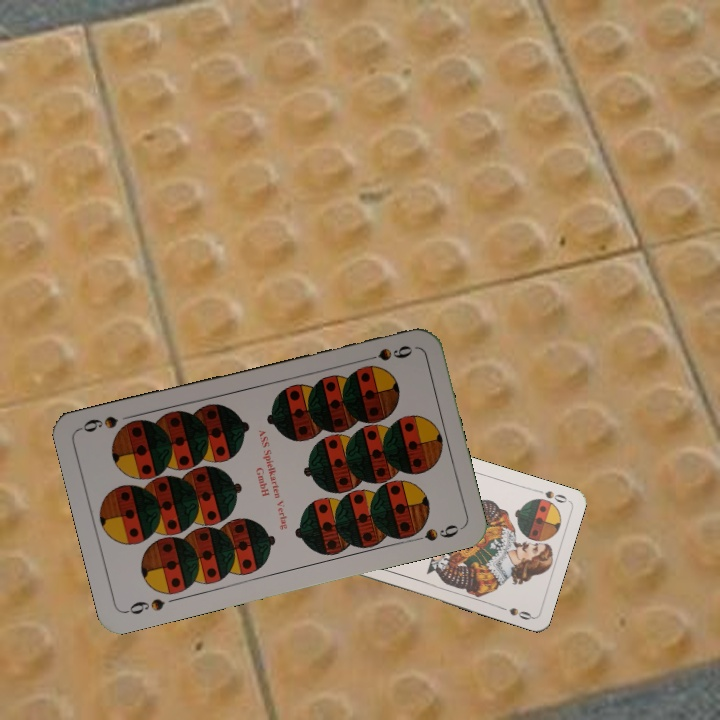S9: (358, 341, 415, 365), (122, 594, 167, 617)
SO: (541, 486, 570, 506)
